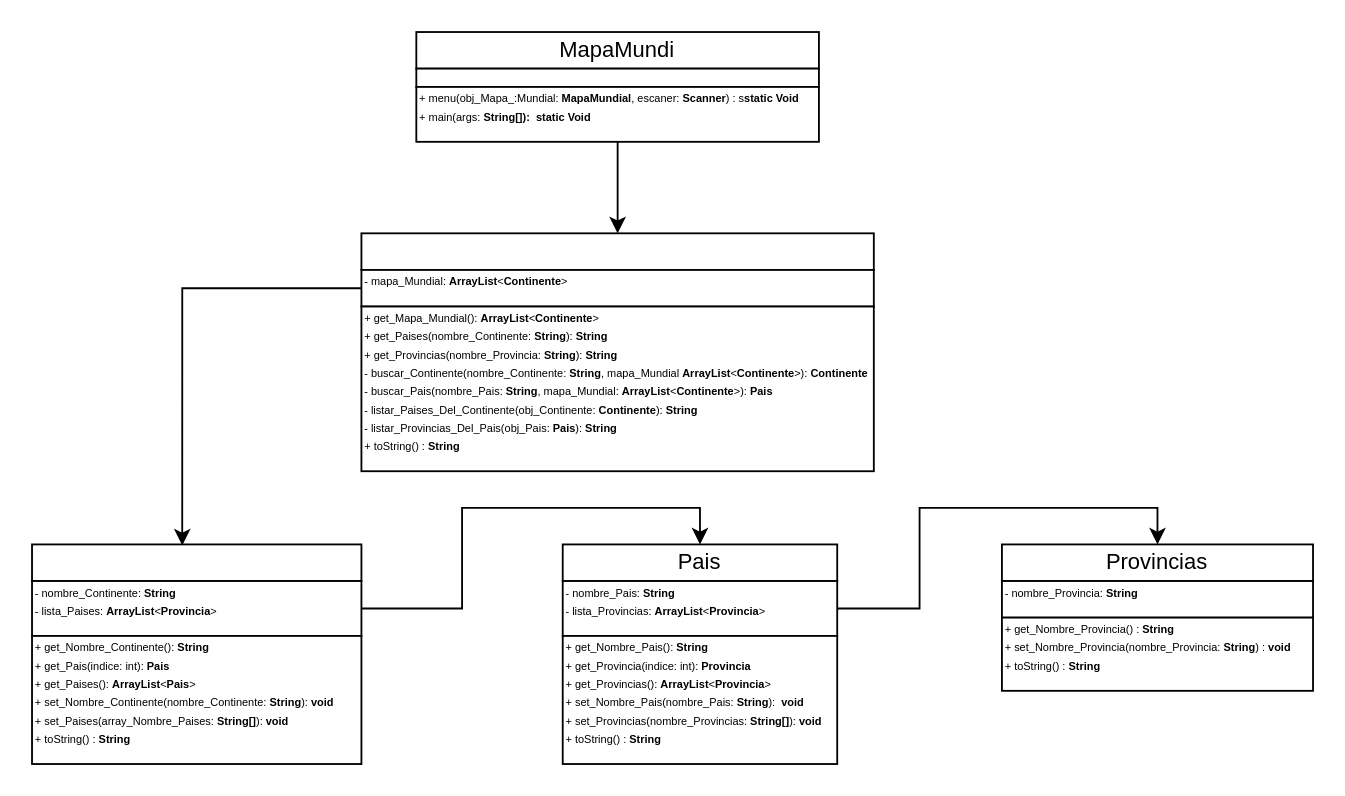
Some shapes in this 1345 by 796 pixel diagram are drawn without their labels. Each missing label, with the centre of its shape:
Continente: point 195,562
MapaMundial: point 617,250
